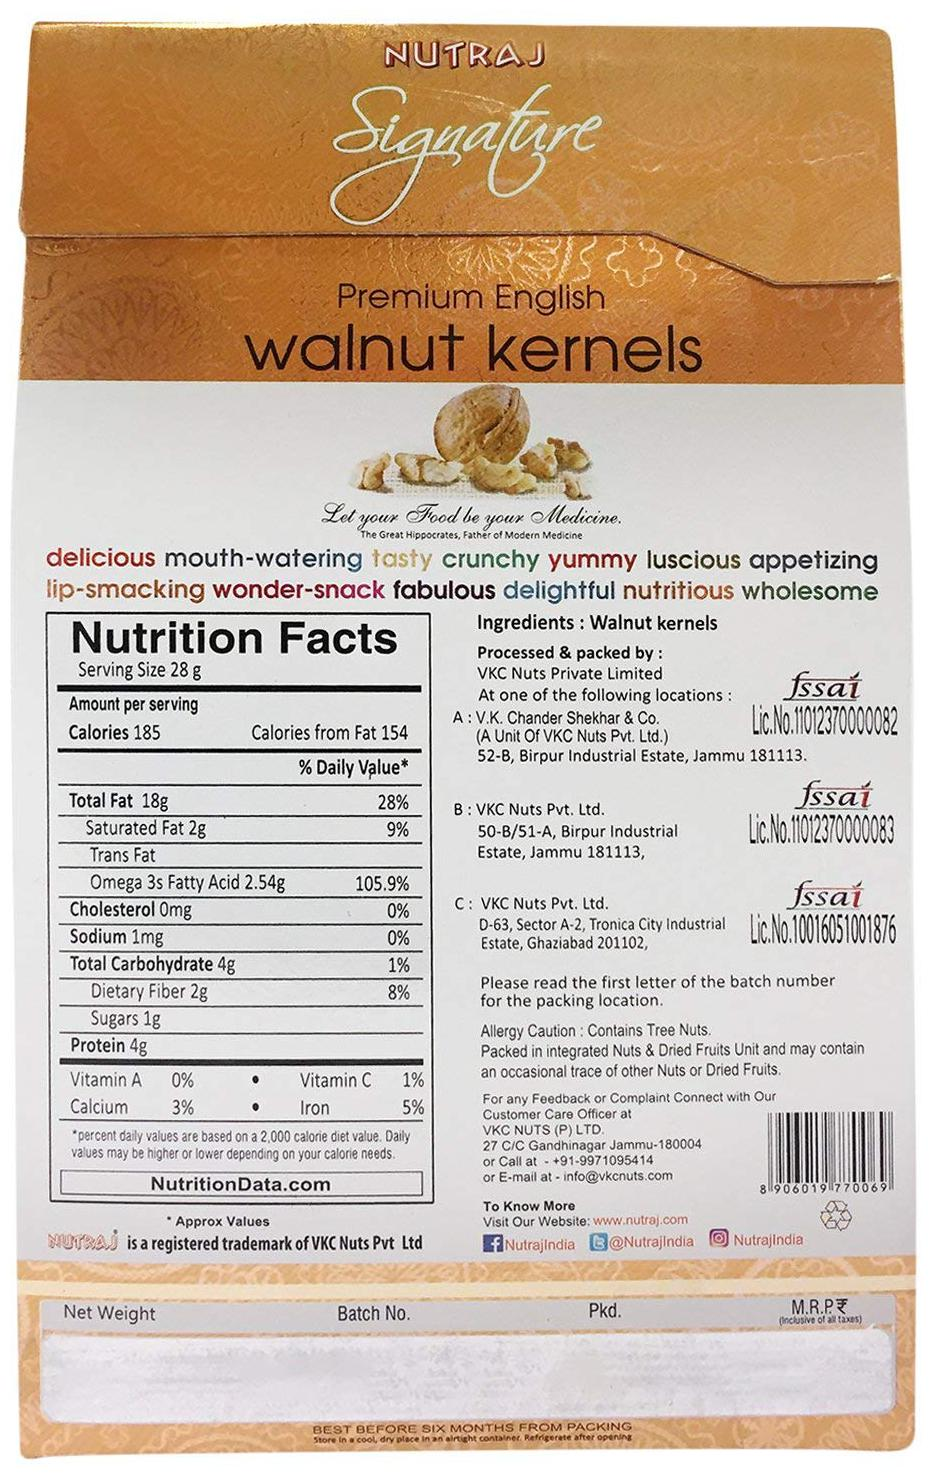fssai: (785, 878, 865, 910), (782, 670, 860, 701), (793, 779, 872, 809)
